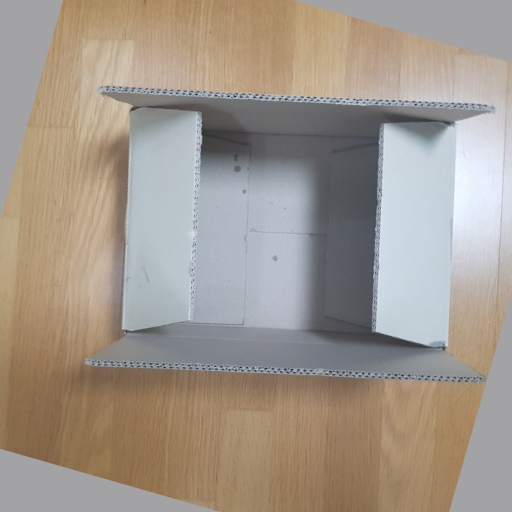Paper_0: (77, 74, 500, 388)
